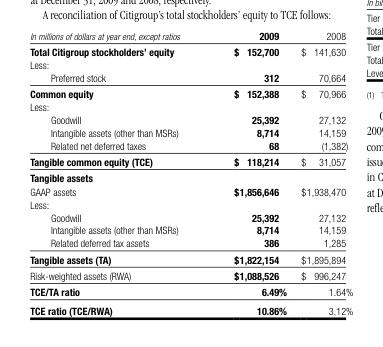table: (29, 29, 352, 316)
table column: (29, 29, 206, 316), (206, 29, 293, 316), (293, 29, 352, 316)
table column header: (29, 29, 352, 43)
table projected row header: (29, 169, 352, 184), (29, 197, 352, 210), (29, 58, 352, 70), (29, 100, 352, 112)
table row: (29, 266, 352, 283), (29, 283, 352, 300), (29, 153, 352, 169), (29, 250, 352, 266), (29, 300, 352, 316), (29, 43, 352, 58), (29, 70, 352, 85), (29, 85, 352, 100), (29, 138, 352, 153), (29, 169, 352, 184), (29, 29, 352, 43), (29, 236, 352, 250), (29, 112, 352, 125), (29, 125, 352, 138), (29, 184, 352, 197), (29, 197, 352, 210), (29, 210, 352, 223), (29, 223, 352, 236), (29, 58, 352, 70), (29, 100, 352, 112)
